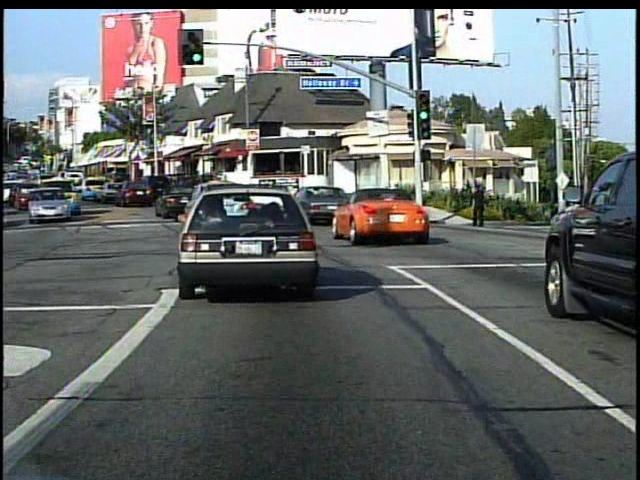person: (557, 183, 580, 245), (466, 182, 488, 229)
